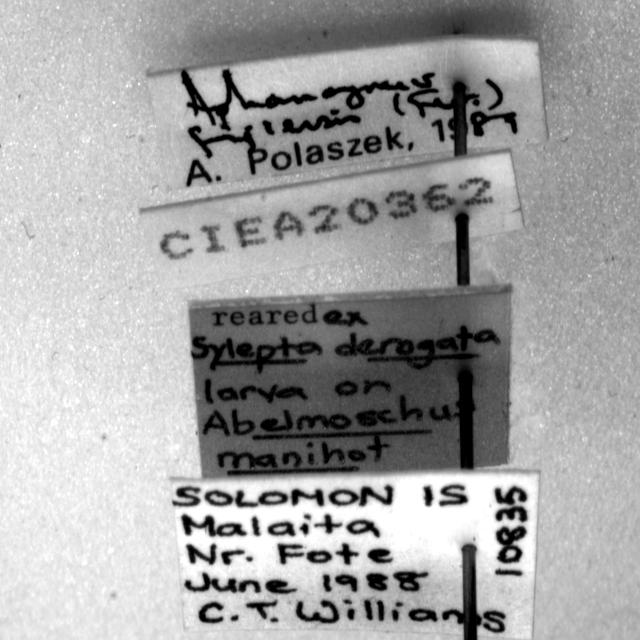hand_label: (171, 471, 539, 639)
mixed_label: (189, 289, 511, 478), (149, 38, 548, 188)
typed_label: (141, 152, 524, 289)
